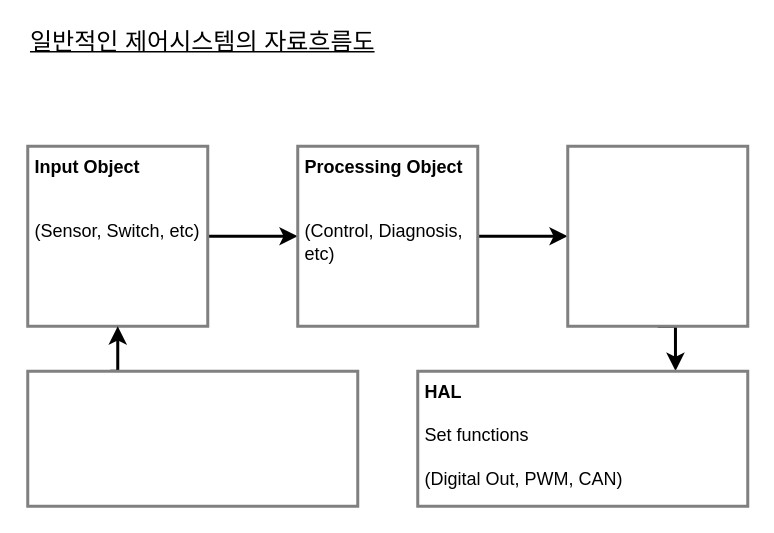
Image size: 774x533. Some labels were removed from this diagram. The box of each missing label's shape, as (x1, y1, x2, y2) in pixels:
HAL Get functions (Digital In, Adc, CAN): (26, 369, 358, 507)
Output Object (solenoid, Motor, Valve, Display, etc): (566, 144, 748, 327)
